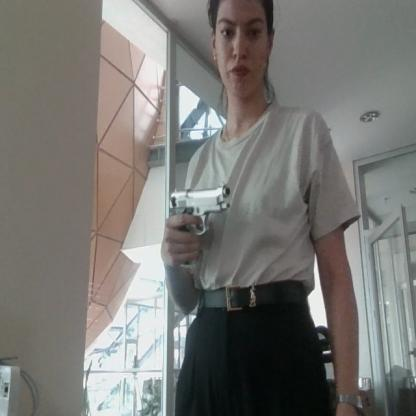handgun: (165, 165, 262, 294)
